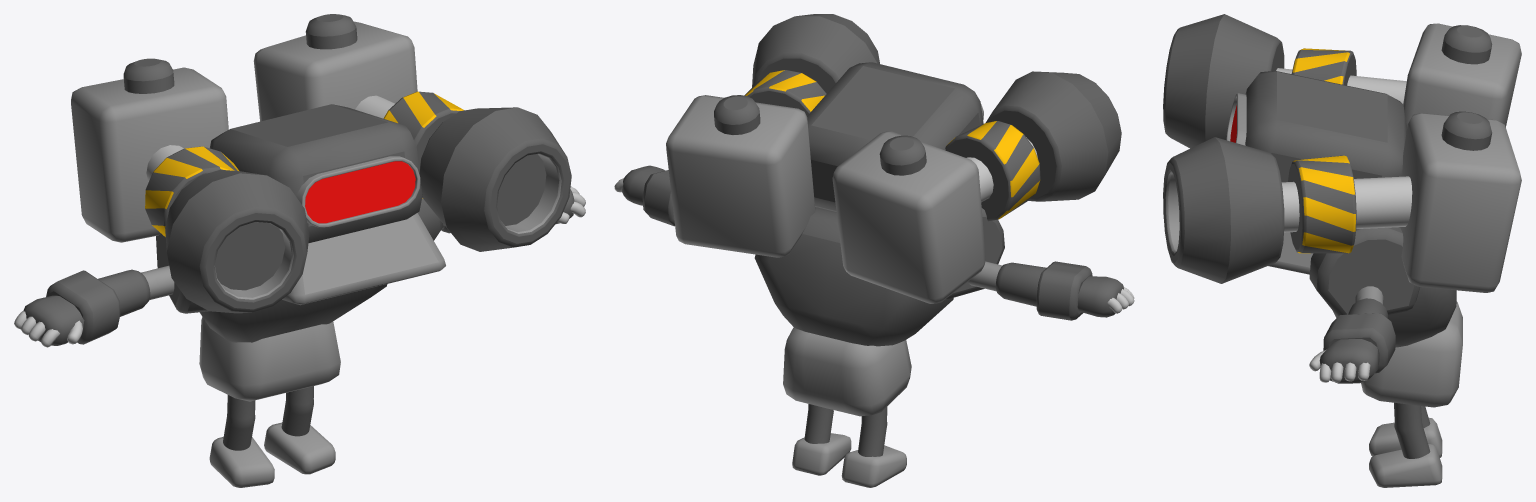
File: enemy-002.fbx
3 views of the same model, side by side, from view 1: azimuth 30°, elevation 25°; view 2: azimuth 150°, elevation 25°; view 3: azimuth 270°, elevation 25° (orthographic). The views are drawn at different scales.
Visible parts, largest first — view 1: enemy-002; view 2: enemy-002; view 3: enemy-002.
Part boxes in pixels (left/top/right/bottom): enemy-002: left=14, top=14, right=585, bottom=487; enemy-002: left=614, top=14, right=1134, bottom=487; enemy-002: left=1163, top=14, right=1521, bottom=487.
Size of the model in its own units: 11.23 by 7.82 by 6.46.
